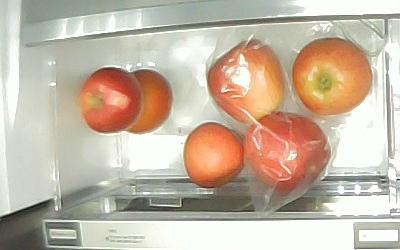apple: (292, 37, 374, 116), (81, 68, 142, 135), (184, 122, 244, 189), (125, 70, 172, 134)
apple_vinyl: (244, 112, 332, 194), (207, 38, 286, 125)
